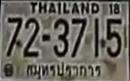1: (95, 18, 99, 58)
2: (23, 16, 39, 56)
3: (53, 17, 68, 56)
5: (106, 18, 121, 56)
7: (6, 16, 22, 56), (71, 17, 86, 57)
SPK: (25, 61, 103, 80)
